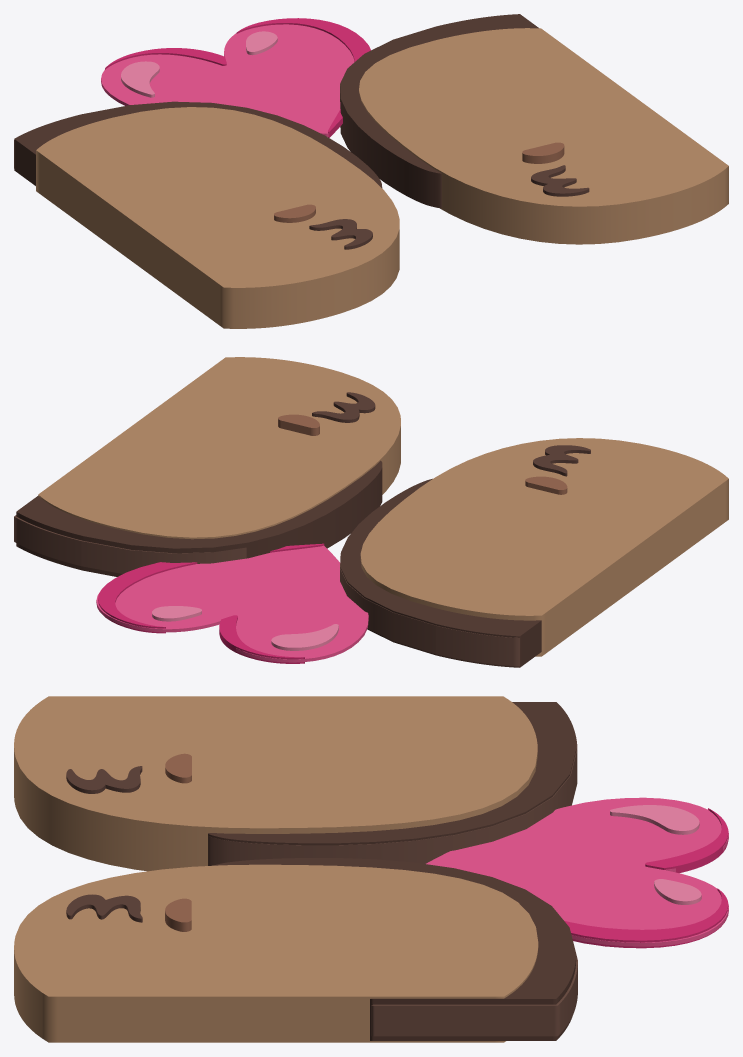
File: emoji_u1f468_1f3fd_200d_2764_200d_1f48b_200d_1f468_1f3fd.glb
3 renders of one model, top to bottom at view 1: azimuth 30°, elevation 25°; view 2: azimuth 150°, elevation 25°; view 3: azimuth 270°, elevation 25°, orthographic. The views are drawn at different scales.
Parts seen in each view (by area): view 1: emoji_u1f468_1f3fd_200d_2764_200d_1f48b_200d_1f468_1f3fd; view 2: emoji_u1f468_1f3fd_200d_2764_200d_1f48b_200d_1f468_1f3fd; view 3: emoji_u1f468_1f3fd_200d_2764_200d_1f48b_200d_1f468_1f3fd.
Boxes of the visible parts, x1,y1,x2,y2 form: emoji_u1f468_1f3fd_200d_2764_200d_1f48b_200d_1f468_1f3fd: (14, 14, 728, 328); emoji_u1f468_1f3fd_200d_2764_200d_1f48b_200d_1f468_1f3fd: (14, 357, 728, 667); emoji_u1f468_1f3fd_200d_2764_200d_1f48b_200d_1f468_1f3fd: (14, 696, 728, 1042).
Bounding box in the file's own units: 0.0336 × 0.0034 × 0.0339.
